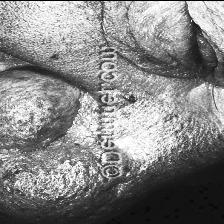Non-Cancerous Skin Condition: (75, 119, 98, 146)
